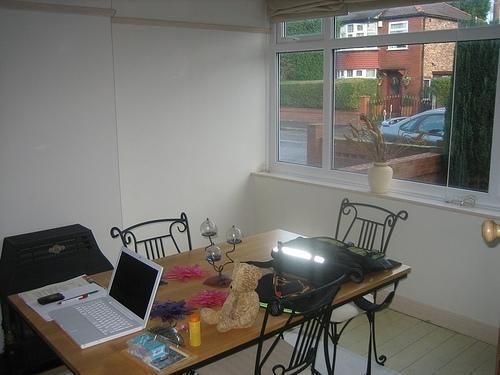car: (379, 108, 444, 148)
